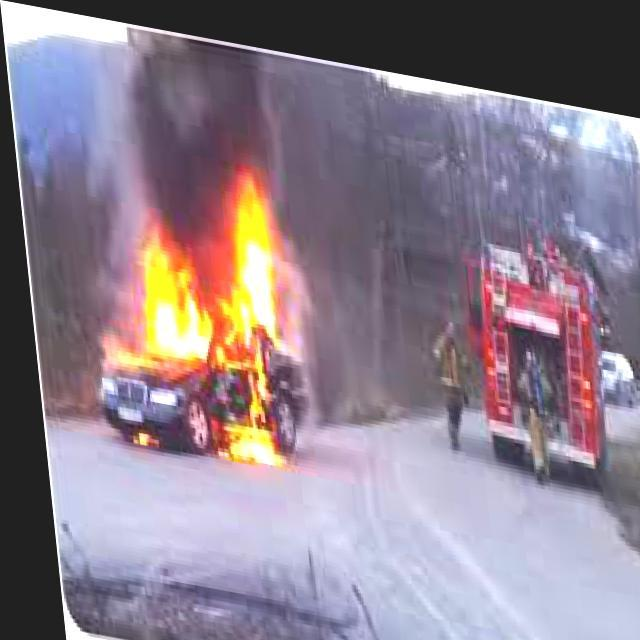Fire: (128, 140, 304, 467)
